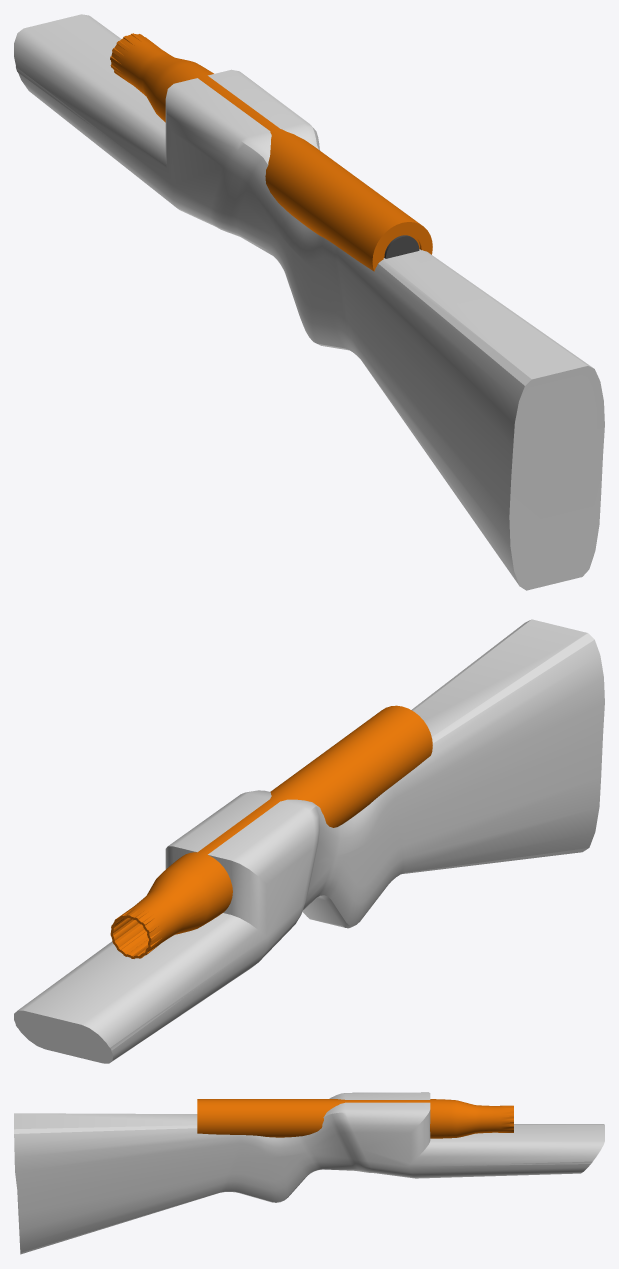
File: elephantgun_shell.fbx
The picture shows the model from 3 angles, top to bottom: view 1: azimuth 30°, elevation 25°; view 2: azimuth 150°, elevation 25°; view 3: azimuth 270°, elevation 25°; orthographic projection. The views are drawn at different scales.
Parts seen in each view (by area): view 1: Cube, Circle; view 2: Cube, Circle; view 3: Cube, Circle.
Part boxes in pixels (x1,y1,x2,y2): Cube: [14, 14, 604, 590]; Circle: [110, 33, 432, 271]; Cube: [14, 619, 604, 1063]; Circle: [110, 705, 432, 958]; Cube: [14, 1092, 604, 1254]; Circle: [197, 1099, 513, 1138].
Size of the model in its own units: 127 by 322 by 1184.
